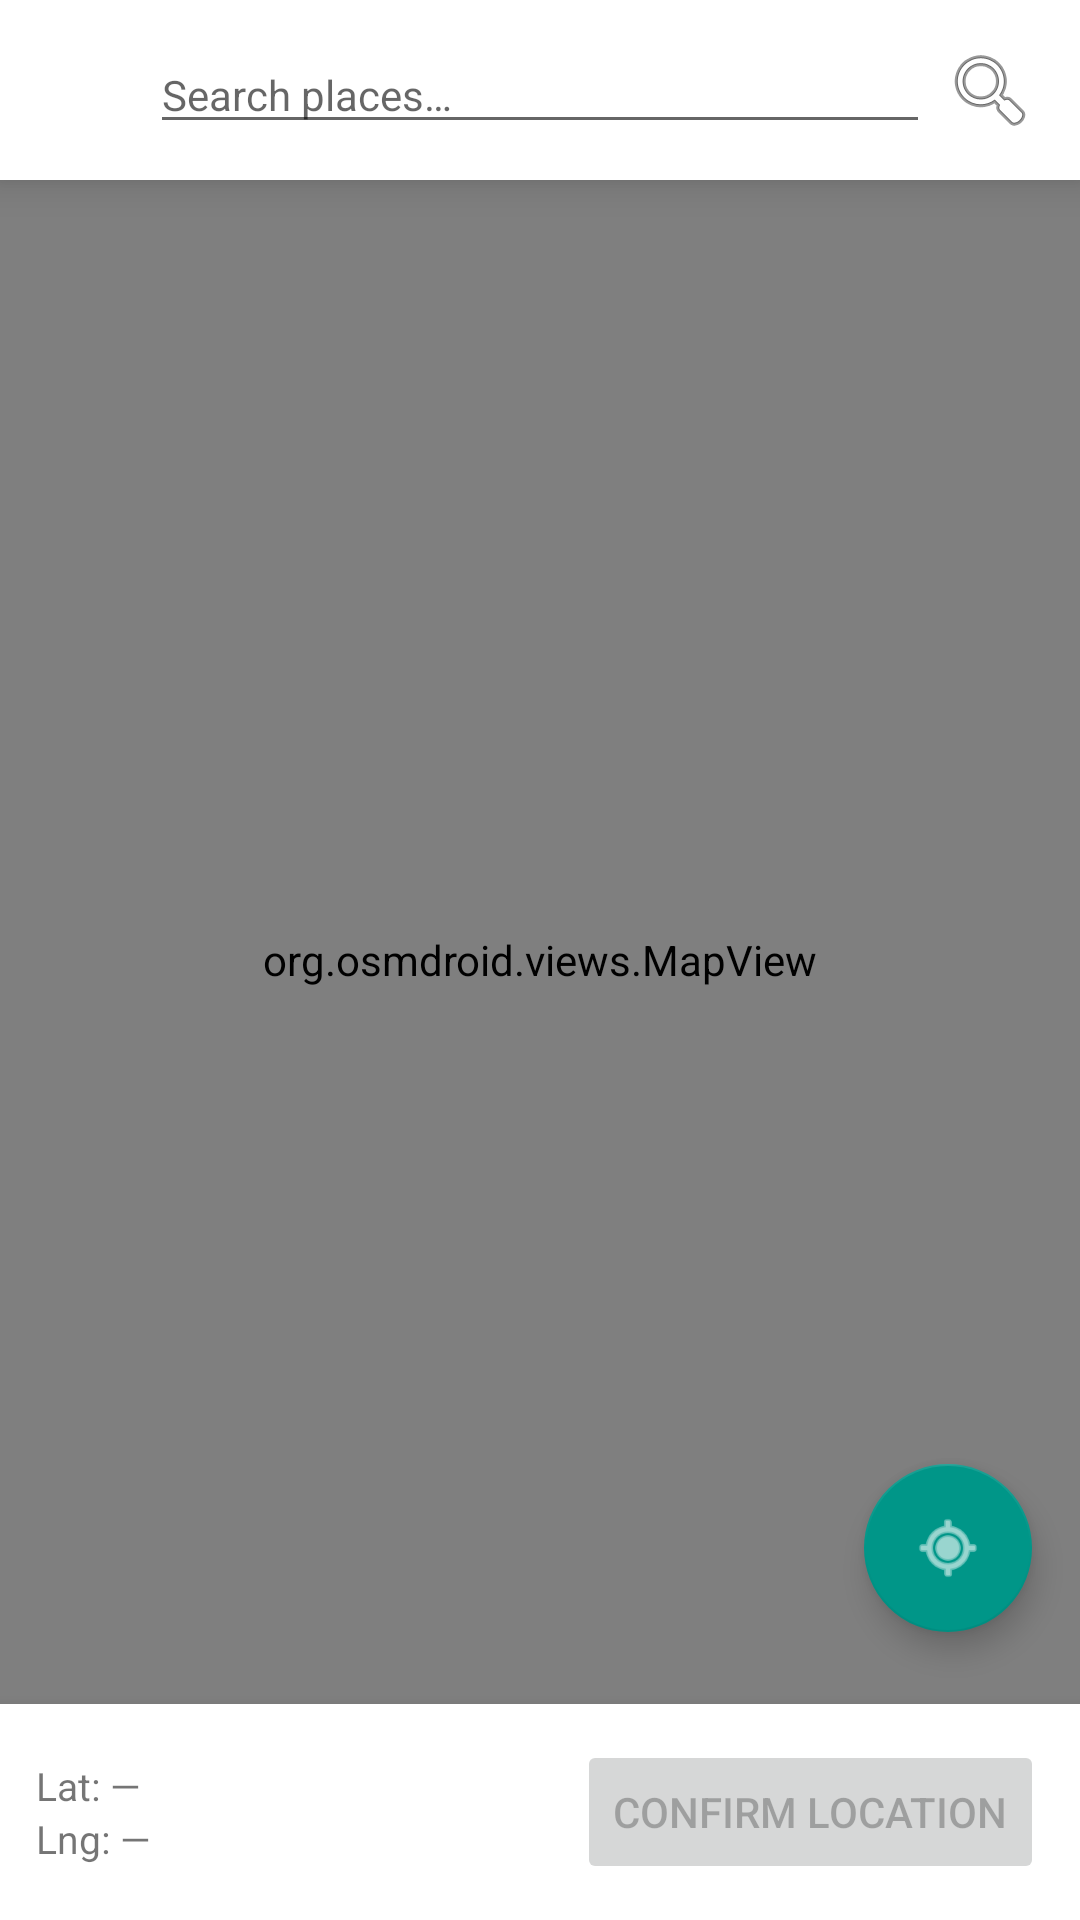

Locate icon controls on the screen. Image size 1080×1920, boxes as (x1, y1, x2, y2).
Use my location: (864, 1464, 1032, 1632)
